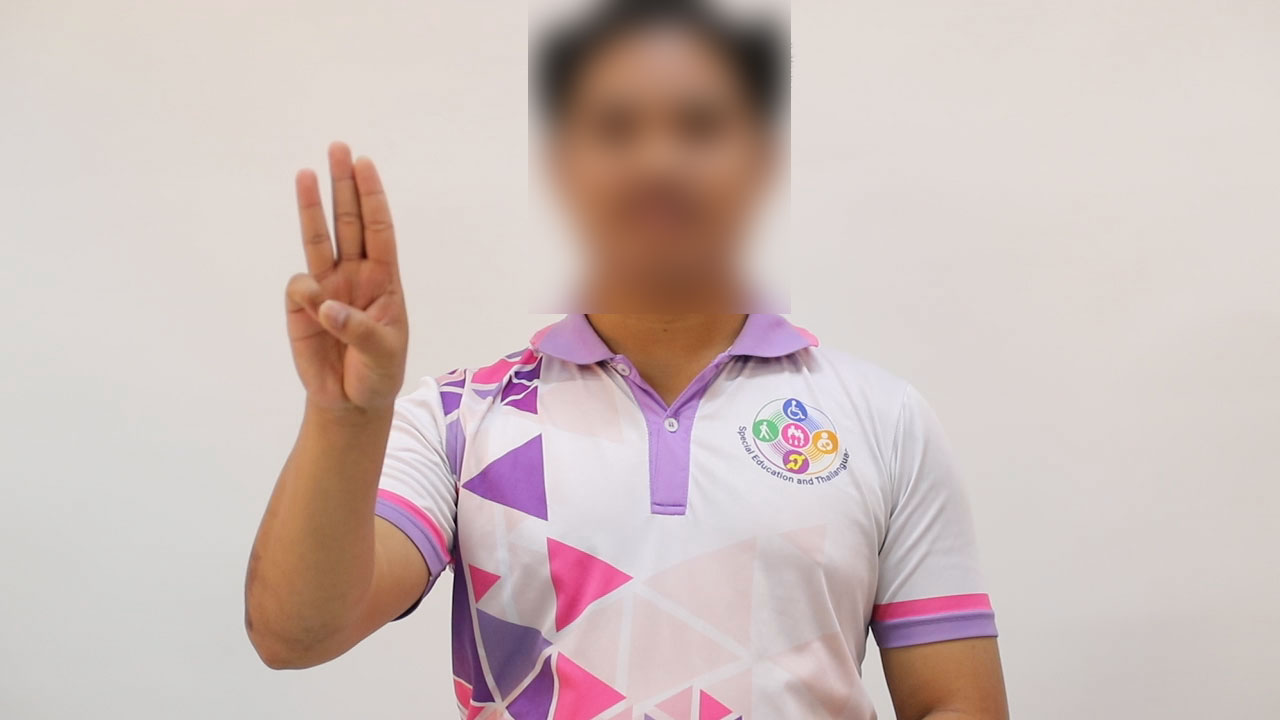wor: (272, 131, 417, 423)
